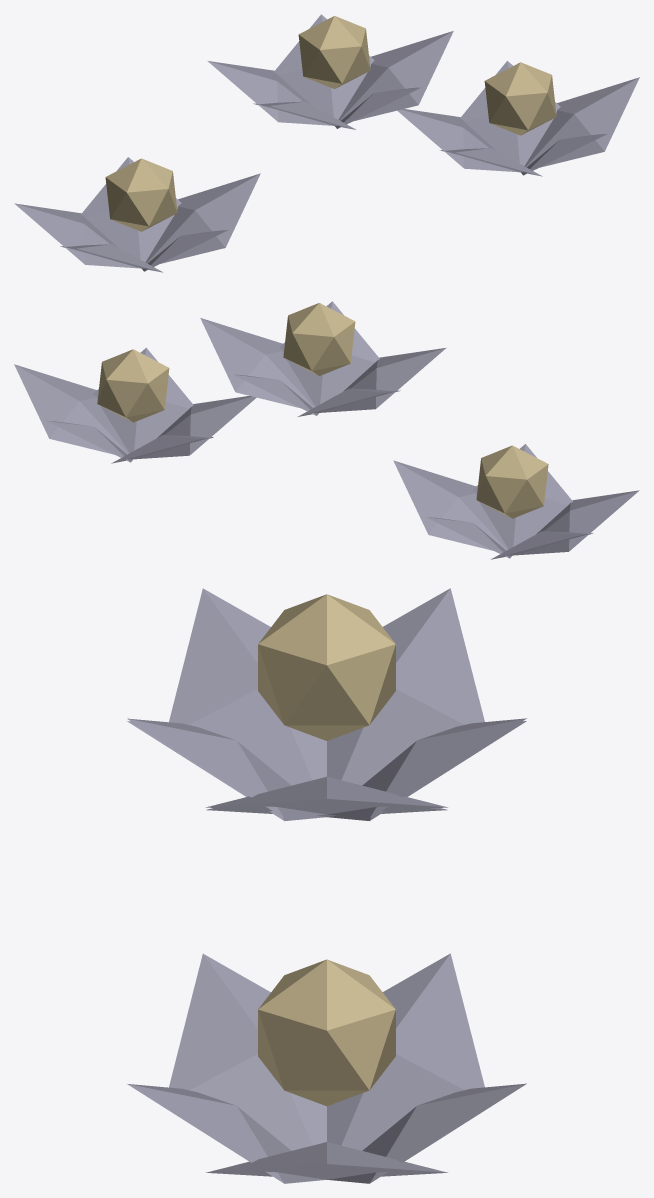
The model's file is map-exclusive-v3__highland_09.glb.
3 views of the same model, one above another, from view 1: azimuth 30°, elevation 25°; view 2: azimuth 150°, elevation 25°; view 3: azimuth 270°, elevation 25° (orthographic). The views are drawn at different scales.
Parts seen in each view (by area): view 1: highland_09; view 2: highland_09; view 3: highland_09.
Part boxes in pixels (left/top/right/bottom): highland_09: left=14, top=14, right=639, bottom=272; highland_09: left=14, top=301, right=639, bottom=559; highland_09: left=127, top=588, right=526, bottom=1183.
Bounding box in the file's own units: 1.7 × 0.56 × 0.4945.
